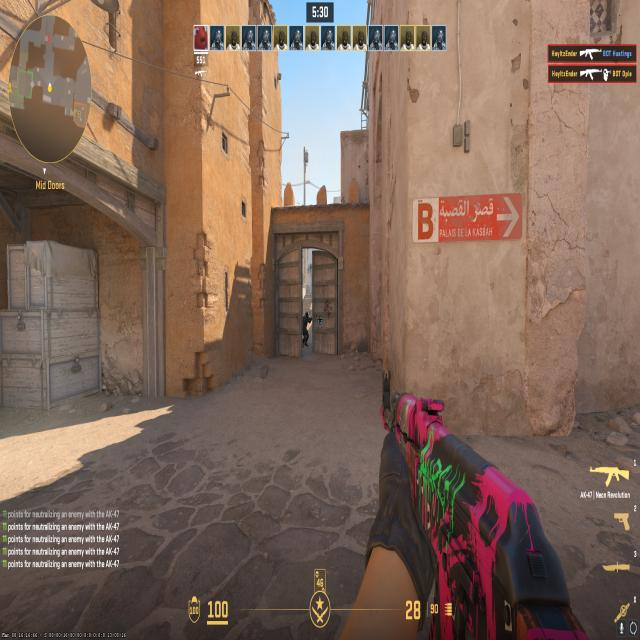ct: (300, 307, 311, 348)
